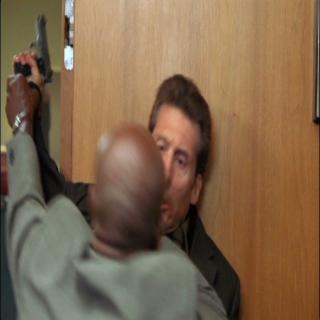gun: (10, 13, 55, 90)
